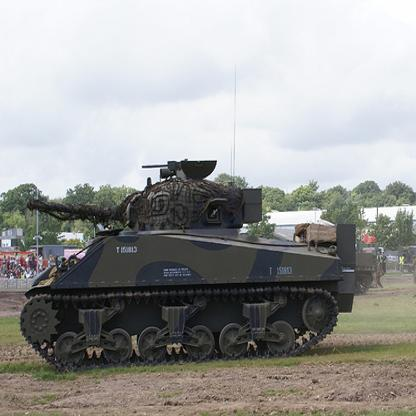Tank: (15, 159, 360, 370)
